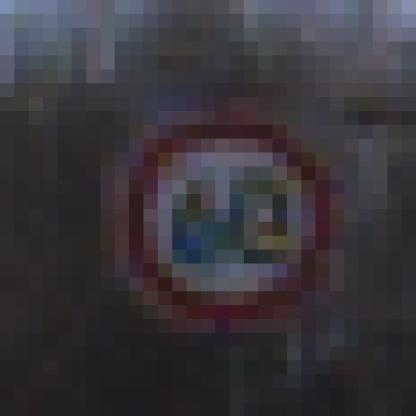Speed Limit 60: (131, 125, 326, 320)
